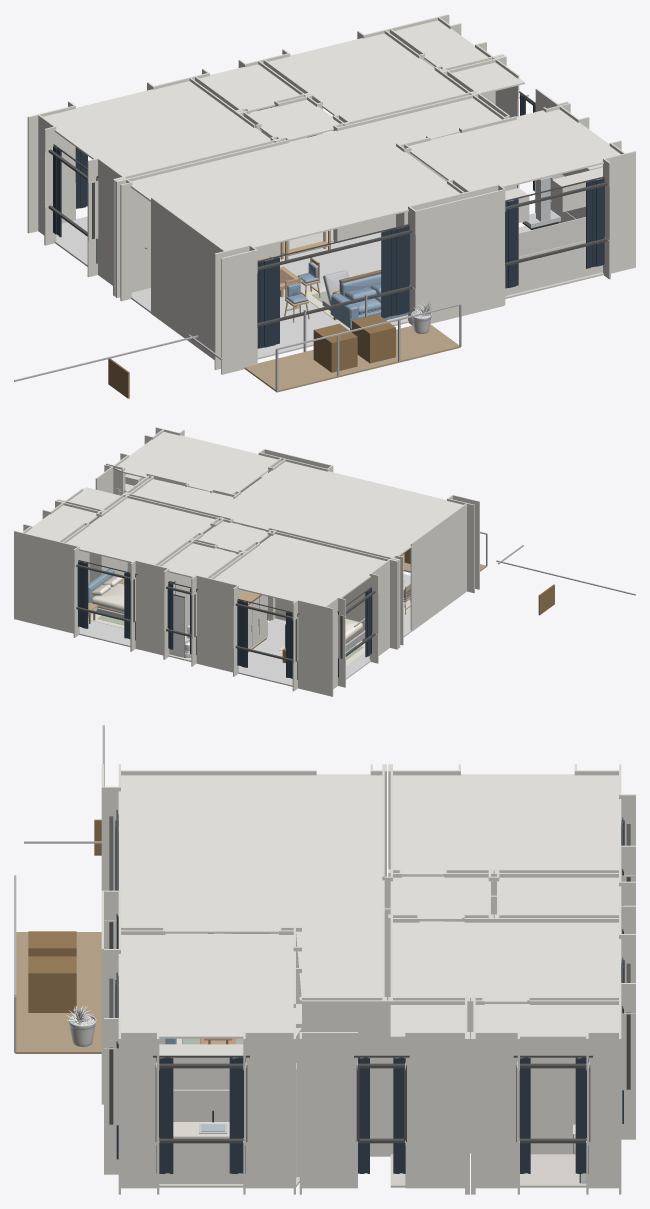
The model's file is 2bhk-modern.glb.
3 renders of one model, top to bottom at view 1: azimuth 30°, elevation 25°; view 2: azimuth 150°, elevation 25°; view 3: azimuth 270°, elevation 25°, orthographic. The views are drawn at different scales.
Parts seen in each view (by area): view 1: ceil-living, ceil-bedroom1, wall-balcony-wall-12, ceil-kitchen, ceil-bedroom2, wall-living-wall-0, floor-living, wall-balcony-wall-4, floor-balcony, wall-kitchen-wall-29, wall-living-wall-6, wall-bedroom1-wall-5 (+27 smaller); view 2: ceil-living, ceil-bedroom1, ceil-kitchen, wall-bedroom2-wall-23, ceil-bedroom2, wall-living-wall-0, wall-bedroom1-wall-7, wall-bedroom1-wall-5, wall-bathroom-wall-14, wall-bathroom-wall-7, floor-bedroom1, wall-lobby-wall-6 (+19 smaller); view 3: ceil-living, ceil-bedroom1, ceil-kitchen, ceil-bedroom2, wall-utility-wall-34, wall-kitchen-wall-33, wall-kitchen-wall-32, wall-utility-wall-35, wall-kitchen-wall-31, floor-balcony, wall-ensuite-wall-34, wall-ensuite-wall-27 (+32 smaller).
Boxes of the visible parts, box(x1,y1,x2,y2) form: ceil-living: box(131, 98, 501, 250); ceil-bedroom1: box(43, 81, 270, 176); wall-balcony-wall-12: box(409, 189, 504, 323); ceil-kitchen: box(409, 109, 620, 190); ceil-bedroom2: box(263, 33, 465, 121); wall-living-wall-0: box(151, 197, 225, 359); floor-living: box(131, 232, 408, 359); wall-balcony-wall-4: box(221, 246, 257, 374); floor-balcony: box(244, 324, 460, 392); wall-kitchen-wall-29: box(603, 151, 635, 279); wall-living-wall-6: box(116, 139, 288, 297); wall-bedroom1-wall-5: box(27, 101, 75, 233); ceil-living: box(133, 461, 462, 557); ceil-bedroom1: box(214, 534, 386, 606); ceil-kitchen: box(113, 432, 277, 493); wall-bedroom2-wall-23: box(14, 530, 79, 637); ceil-bedroom2: box(66, 498, 215, 565); wall-living-wall-0: box(410, 503, 467, 631); wall-bedroom1-wall-7: box(192, 576, 238, 676); wall-bedroom1-wall-5: box(292, 599, 333, 696); wall-bathroom-wall-14: box(132, 561, 169, 659); wall-bathroom-wall-7: box(191, 575, 234, 671); floor-bedroom1: box(238, 618, 370, 686); wall-lobby-wall-6: box(265, 528, 397, 649); ceil-living: box(118, 774, 384, 996); ceil-bedroom1: box(393, 774, 621, 876); ceil-kitchen: box(118, 934, 301, 1038); ceil-bedroom2: box(393, 921, 621, 1003); wall-utility-wall-34: box(405, 1032, 466, 1188); wall-kitchen-wall-33: box(299, 1032, 357, 1194); wall-kitchen-wall-32: box(243, 1032, 295, 1194); wall-utility-wall-35: box(471, 1032, 517, 1194); wall-kitchen-wall-31: box(119, 1032, 159, 1194); floor-balcony: box(15, 932, 101, 1053); wall-ensuite-wall-34: box(405, 1032, 469, 1194); wall-ensuite-wall-27: box(529, 1000, 618, 1154).
Size of the model in its own units: 16.4 by 2.91 by 10.52.
